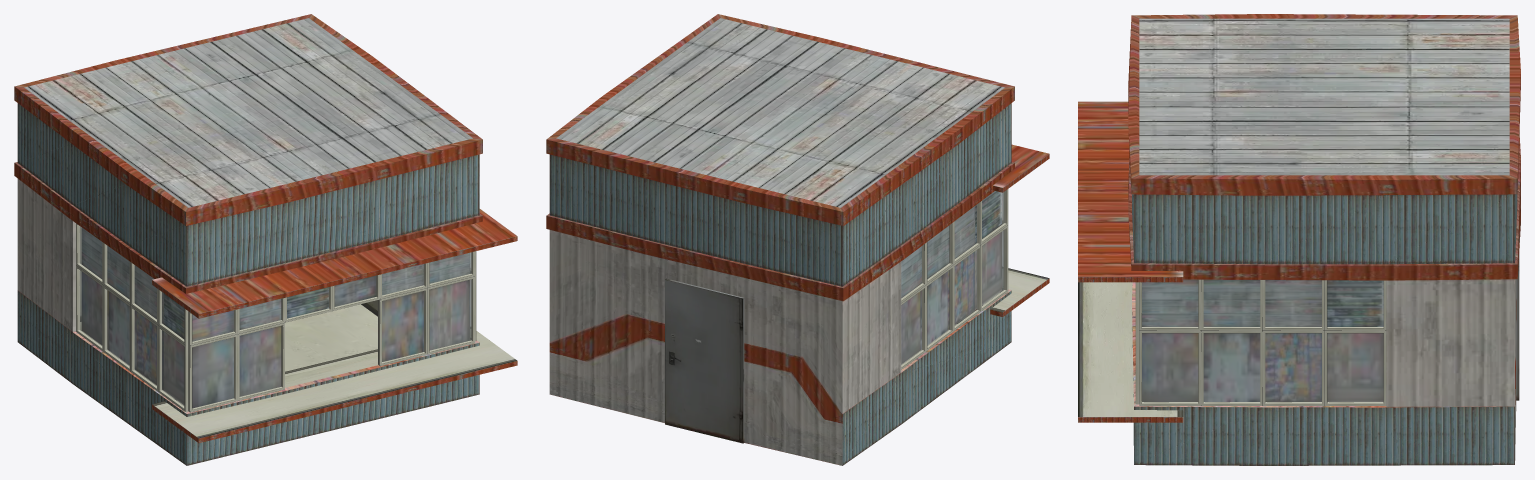
The model's file is p_kiosk.glb.
3 views of the same model, side by side, from view 1: azimuth 30°, elevation 25°; view 2: azimuth 150°, elevation 25°; view 3: azimuth 270°, elevation 25° (orthographic). The views are drawn at different scales.
Parts seen in each view (by area): view 1: Object_6, Object_3, Object_4, Object_8, Object_7, Object_2; view 2: Object_4, Object_6, Object_3, Object_5, Object_8, Object_7, Object_2; view 3: Object_6, Object_3, Object_4, Object_7, Object_8, Object_2, Object_5.
Boxes of the visible parts, bbox=[...] form: Object_6: bbox=[24, 18, 472, 207]; Object_3: bbox=[17, 103, 479, 465]; Object_4: bbox=[14, 14, 517, 442]; Object_8: bbox=[80, 226, 471, 407]; Object_7: bbox=[81, 228, 470, 407]; Object_2: bbox=[76, 223, 516, 438]; Object_4: bbox=[546, 14, 1049, 465]; Object_6: bbox=[556, 18, 1004, 207]; Object_3: bbox=[549, 103, 1011, 465]; Object_5: bbox=[665, 278, 744, 443]; Object_8: bbox=[901, 191, 1004, 364]; Object_7: bbox=[901, 191, 1002, 363]; Object_2: bbox=[901, 189, 1048, 369]; Object_6: bbox=[1139, 18, 1509, 175]; Object_3: bbox=[1132, 194, 1517, 465]; Object_4: bbox=[1078, 14, 1520, 460]; Object_7: bbox=[1142, 280, 1383, 401]; Object_8: bbox=[1142, 280, 1383, 401]; Object_2: bbox=[1078, 279, 1386, 416]; Object_5: bbox=[1516, 254, 1519, 400].
Bounding box in the file's own units: 5.59 × 4.28 × 5.98.
Materials: 7 (7 with a texture image).
